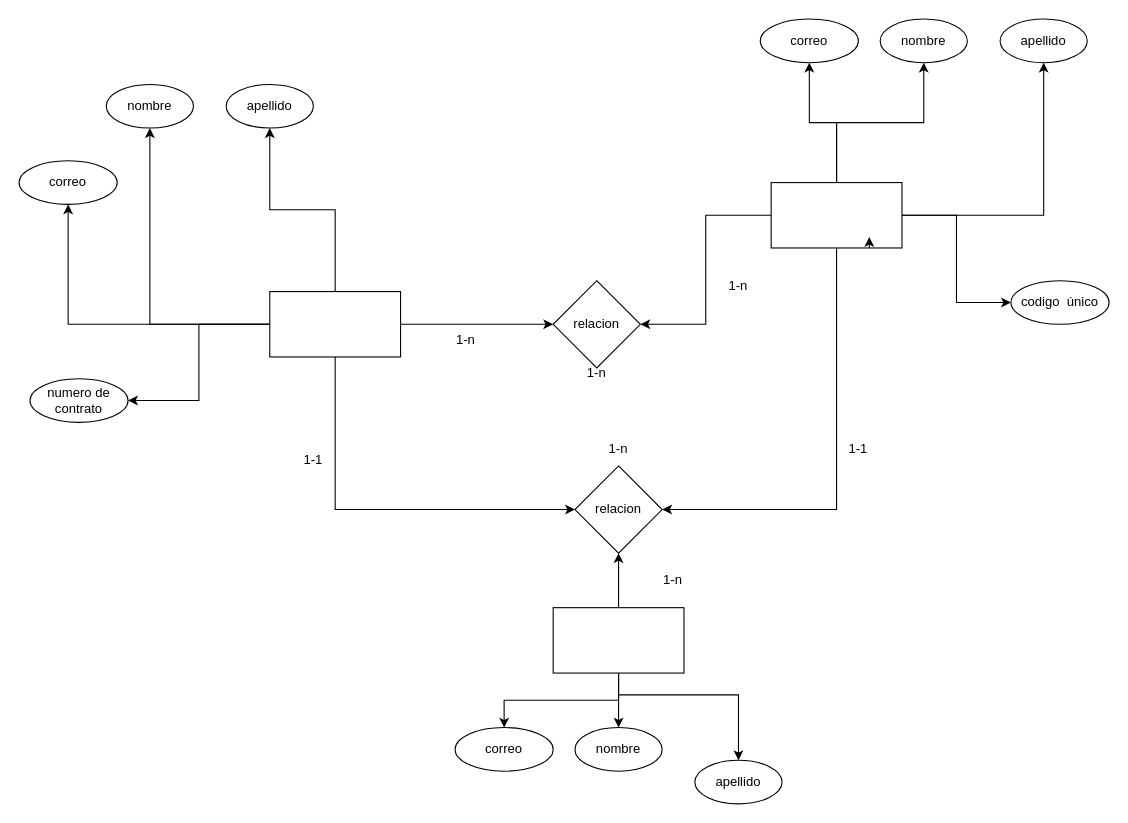
Image size: 1128x823. Some labels were removed from this diagram. Each missing label, with the box of its shape:
Estudiante: (770, 181, 902, 248)
Profesor: (269, 290, 401, 357)
Registro de Datos: (552, 607, 684, 673)
